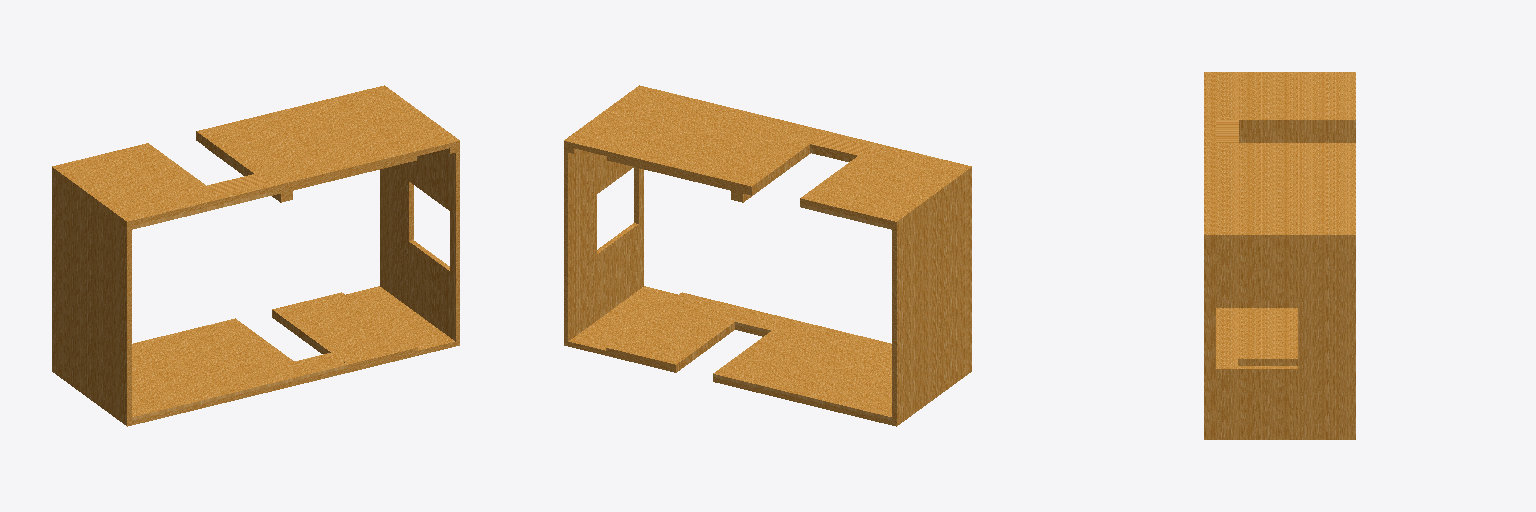
The picture shows the model from 3 angles: view 1: azimuth 30°, elevation 25°; view 2: azimuth 150°, elevation 25°; view 3: azimuth 270°, elevation 25°; orthographic projection.
Bounding box in the file's own units: 68.6 × 40.3 × 27.
1 materials, 1 textured.